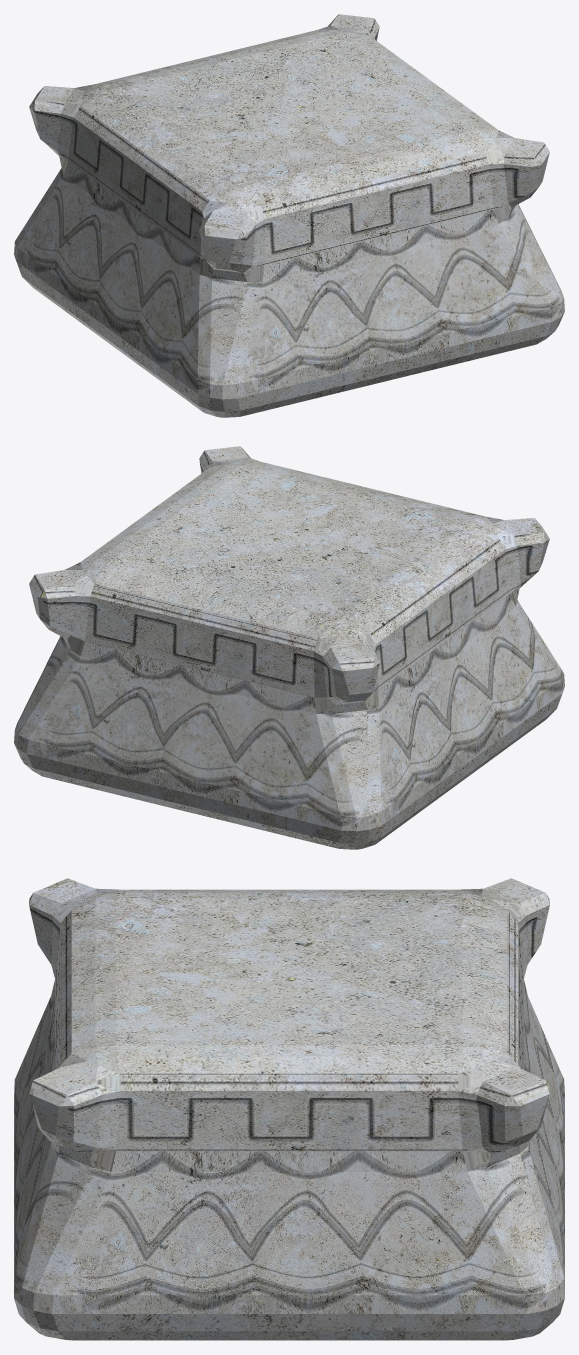
Rendered from Stone Display.obj.
3 renders of one model, top to bottom at view 1: azimuth 30°, elevation 25°; view 2: azimuth 150°, elevation 25°; view 3: azimuth 270°, elevation 25°, orthographic. The views are drawn at different scales.
Visible parts, largest first — view 1: Cube.001_Cube.002; view 2: Cube.001_Cube.002; view 3: Cube.001_Cube.002.
Part boxes in pixels (left/top/right/bottom): Cube.001_Cube.002: left=14, top=14, right=564, bottom=417; Cube.001_Cube.002: left=14, top=446, right=564, bottom=849; Cube.001_Cube.002: left=14, top=878, right=564, bottom=1340.
Bounding box in the file's own units: 1.64 × 0.9064 × 1.64.
3 materials, 3 textured.
